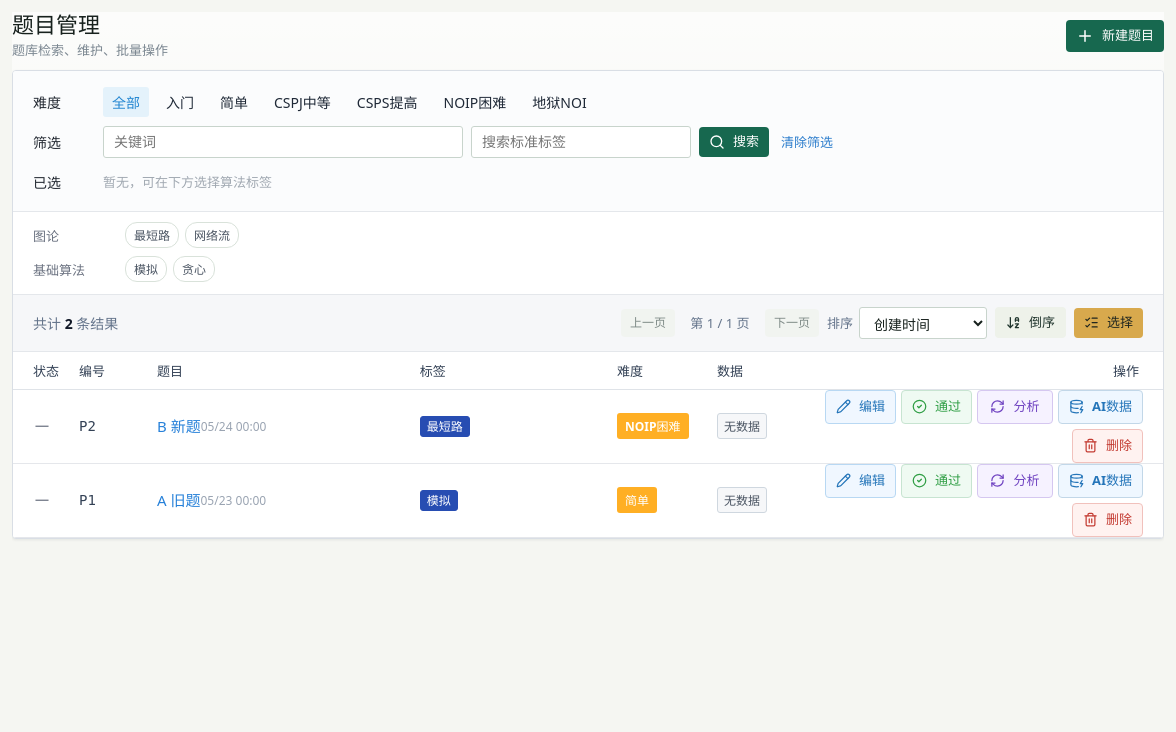
Test case: queues a single problem for reanalysis from row actions
Click the button "分析" in the row of "05/24 00:00" at coordinates (1015, 407), box [977,390,1053,424]
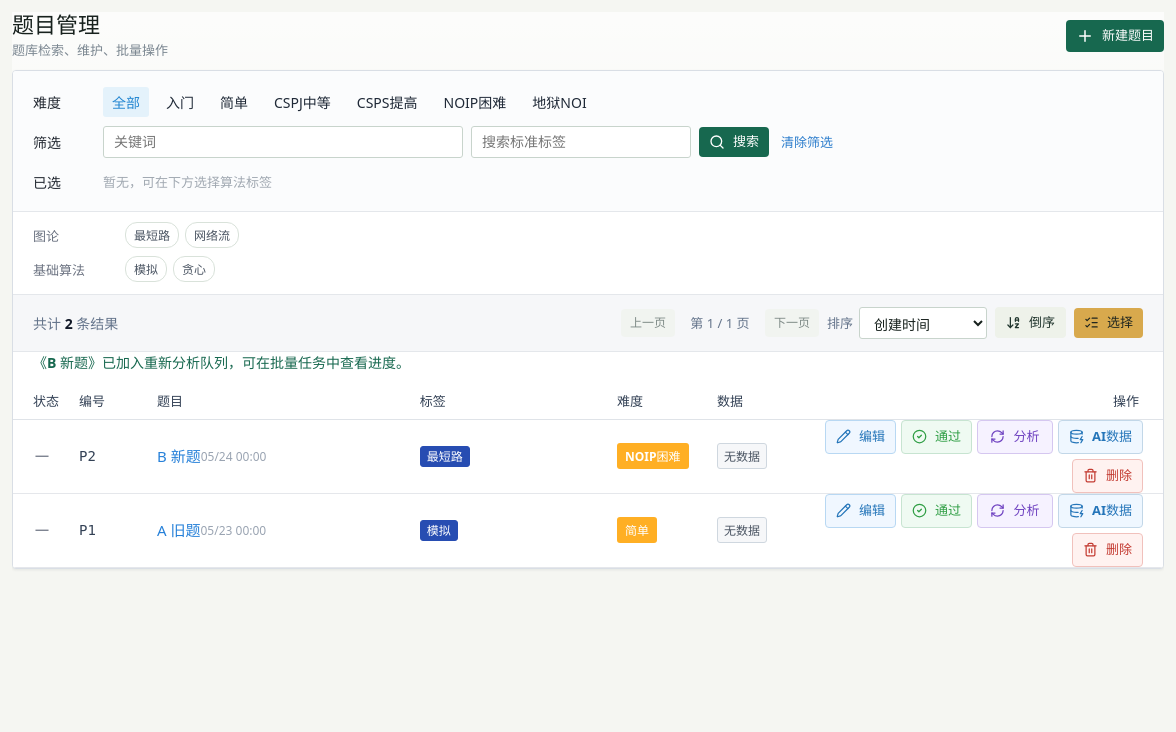
expect the text "《B 新题》已加入重新分析队列，可在批量任务中查看进度。" is shown: met, box [33,353,410,372]
